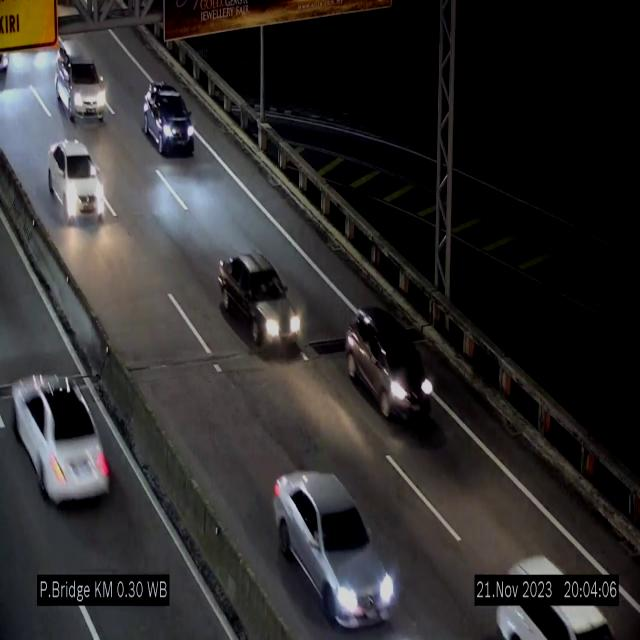Car: (274, 472, 402, 626), (5, 349, 119, 519), (342, 302, 434, 428), (488, 548, 611, 640), (218, 246, 302, 359), (49, 140, 105, 224), (56, 41, 108, 124), (143, 81, 194, 156)
